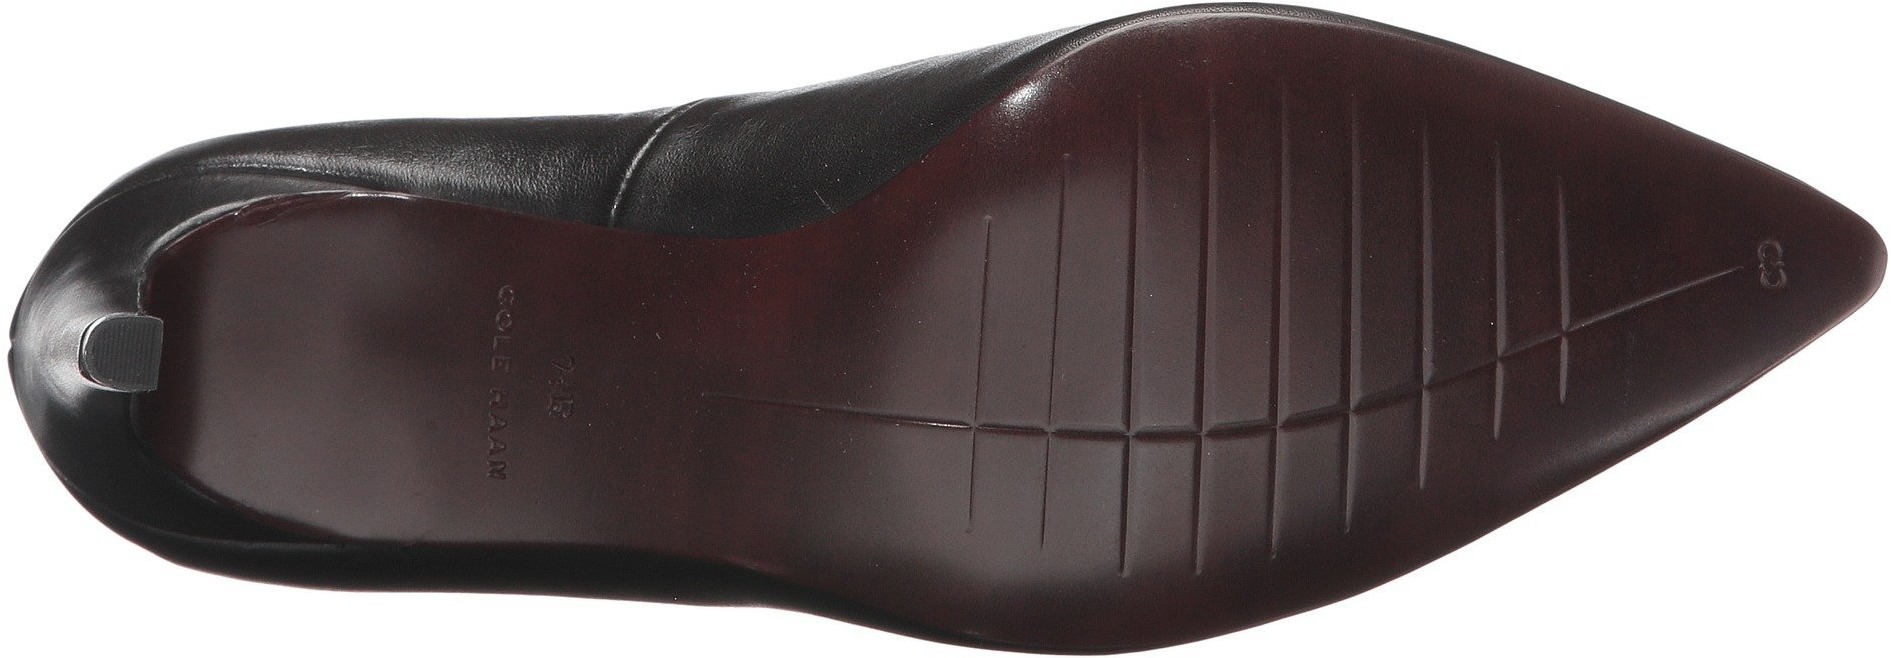line: (990, 155, 1268, 421), (1282, 111, 1535, 343)
other: (96, 318, 160, 388)
